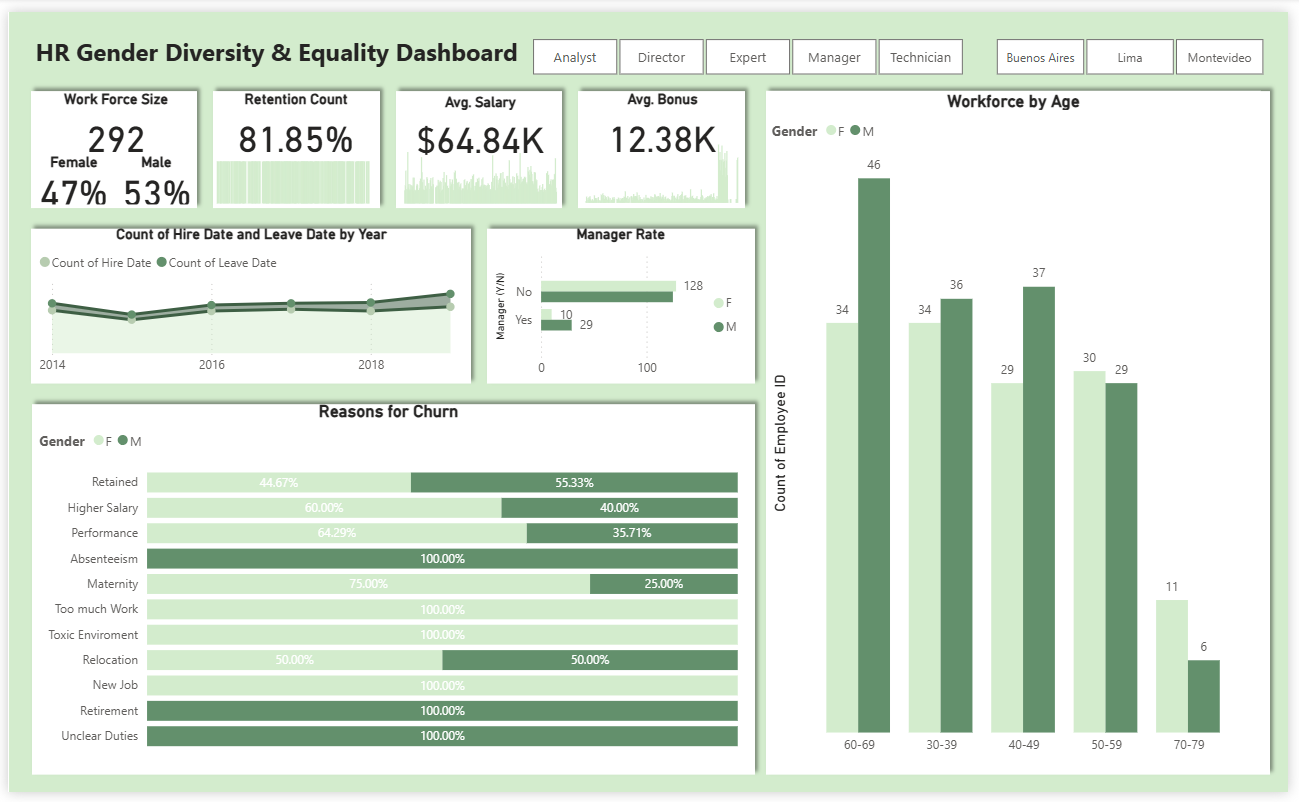

This screenshot's page, from the dashboard's own definition file:
{"tool":"powerbi","page":{"name":"Page 1","canvas":[1280,780],"ordinal":0},"visuals":[{"type":"clusteredColumnChart","title":"Workforce by Age","fields":{"Category":["HR_Gender Diversity & Equality.Age Group"],"Y":["CountNonNull(HR_Gender Diversity & Equality.Employee ID)"],"Series":["HR_Gender Diversity & Equality.Gender"]},"box":[758.7,78.3,493.5,671.7],"z":0},{"type":"clusteredBarChart","title":"Manager Rate","fields":{"Category":["HR_Gender Diversity & Equality.Manager (Y/N)"],"Y":["CountNonNull(HR_Gender Diversity & Equality.Employee ID)"],"Series":["HR_Gender Diversity & Equality.Gender"]},"box":[483.1,214.1,260.6,160.6],"z":1000},{"type":"hundredPercentStackedBarChart","title":"Reasons for Churn","fields":{"Category":["HR_Gender Diversity & Equality.Leave Reason"],"Y":["CountNonNull(HR_Gender Diversity & Equality.Employee ID)"],"Series":["HR_Gender Diversity & Equality.Gender"]},"box":[26.1,389.1,708.7,360.9],"z":2000},{"type":"stackedAreaChart","title":"Count of Hire Date and Leave Date by Year","fields":{"Category":["DateTable.Year"],"Y":["CountNonNull(HR_Gender Diversity & Equality.Hire Date)","CountNonNull(HR_Gender Diversity & Equality.Leave Date)"]},"box":[26.6,214.1,434.4,157.8],"z":3000},{"type":"slicer","fields":{"Values":["HR_Gender Diversity & Equality.Branch"]},"box":[963.1,19.7,316.9,49.3],"z":4000},{"type":"slicer","fields":{"Values":["HR_Gender Diversity & Equality.Job Description"]},"box":[498.6,19.7,480.3,49.3],"z":5000},{"type":"card","title":"Avg. Salary","fields":{"Values":["HR_Gender Diversity & Equality._avg sal"]},"box":[390.6,81.2,162.5,70.3],"z":6000},{"type":"card","title":"Avg. Bonus","fields":{"Values":["Avg(HR_Gender Diversity & Equality.Bonus ($))"]},"box":[571.9,78.1,164.1,73.4],"z":7000},{"type":"card","title":"Retention Count","fields":{"Values":["DateTable._active rate"]},"box":[203.1,78.1,168.8,73.4],"z":8000},{"type":"card","title":"Work Force Size","fields":{"Values":["HR_Gender Diversity & Equality._employee count"]},"box":[23.4,78.1,168.8,73.4],"z":9000},{"type":"card","title":"Female","fields":{"Values":["HR_Gender Diversity & Equality._Female"]},"box":[23.4,140.6,84.4,56.2],"z":10000},{"type":"card","title":"Male","fields":{"Values":["HR_Gender Diversity & Equality._male rate"]},"box":[106.2,140.6,84.4,56.2],"z":11000},{"type":"clusteredColumnChart","fields":{"Category":["HR_Gender Diversity & Equality.Employee ID"],"Y":["DateTable._active rate"]},"box":[203.1,128.1,207.8,68.8],"z":12000},{"type":"clusteredColumnChart","fields":{"Category":["HR_Gender Diversity & Equality.Employee ID"],"Y":["HR_Gender Diversity & Equality._avg sal"]},"box":[390.6,115.6,207.8,81.2],"z":13000},{"type":"clusteredColumnChart","fields":{"Category":["HR_Gender Diversity & Equality.Employee ID"],"Y":["Avg(HR_Gender Diversity & Equality.Bonus ($))"]},"box":[571.9,93.8,207.8,103.1],"z":14000},{"type":"textbox","box":[22.9,18.8,500,50],"z":15000}]}

Visuals, with their boxes in screenshot pixels (x1, y1, x2, y2), scaled from the page's 1280x780 canvas onto the 1299x802 screenshot:
"Workforce by Age" clusteredColumnChart: 770, 81, 1271, 771
"Manager Rate" clusteredBarChart: 490, 220, 755, 385
"Reasons for Churn" hundredPercentStackedBarChart: 26, 400, 746, 771
"Count of Hire Date and Leave Date by Year" stackedAreaChart: 27, 220, 468, 382
slicer - HR_Gender Diversity & Equality.Branch: 977, 20, 1298, 71
slicer - HR_Gender Diversity & Equality.Job Description: 506, 20, 993, 71
"Avg. Salary" card: 396, 83, 561, 156
"Avg. Bonus" card: 580, 80, 747, 156
"Retention Count" card: 206, 80, 377, 156
"Work Force Size" card: 24, 80, 195, 156
"Female" card: 24, 145, 109, 202
"Male" card: 108, 145, 193, 202
clusteredColumnChart - HR_Gender Diversity & Equality.Employee ID x DateTable._active rate: 206, 132, 417, 202
clusteredColumnChart - HR_Gender Diversity & Equality.Employee ID x HR_Gender Diversity & Equality._avg sal: 396, 119, 607, 202
clusteredColumnChart - HR_Gender Diversity & Equality.Employee ID x Avg(HR_Gender Diversity & Equality.Bonus ($)): 580, 96, 791, 202
textbox: 23, 19, 531, 71
